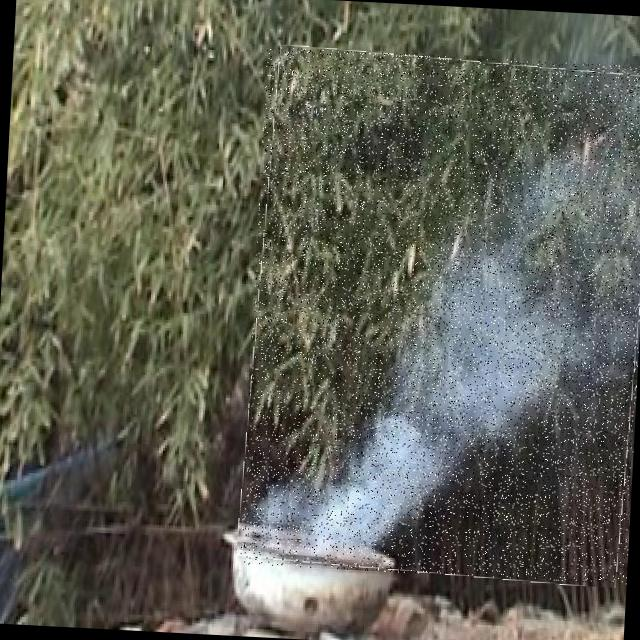Smoke: (240, 46, 640, 584)
